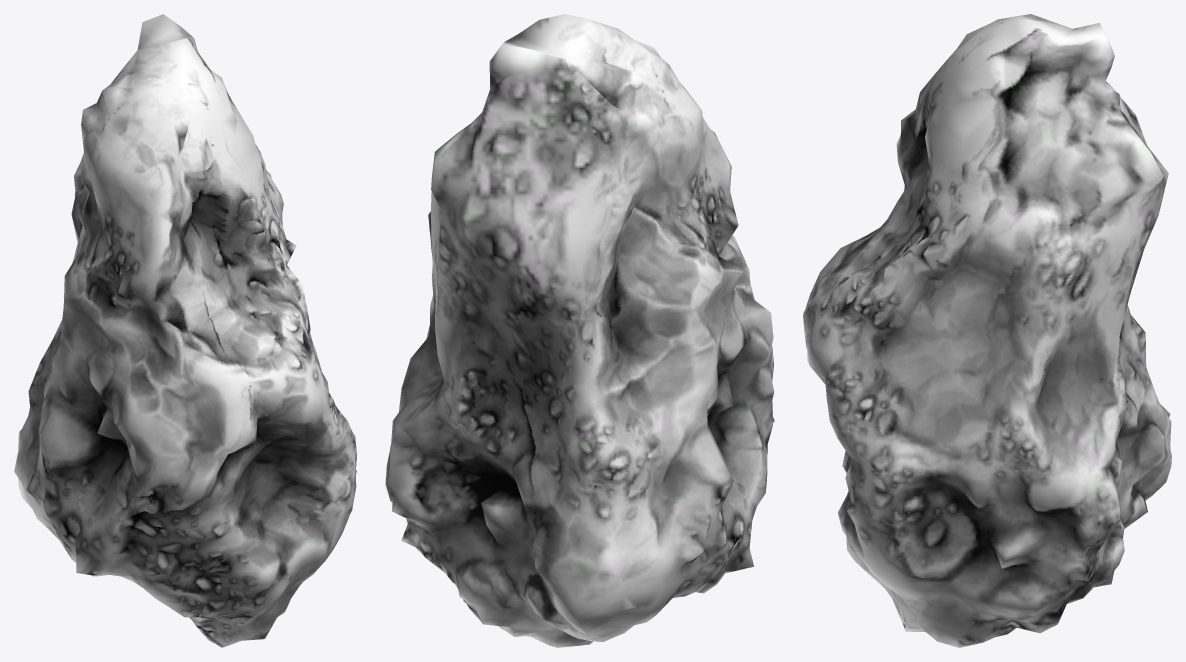
File: asteroid 2.fbx
3 views of the same model, side by side, from view 1: azimuth 30°, elevation 25°; view 2: azimuth 150°, elevation 25°; view 3: azimuth 270°, elevation 25° (orthographic). The views are drawn at different scales.
Parts seen in each view (by area): view 1: LP_UV_0; view 2: LP_UV_0; view 3: LP_UV_0.
Boxes of the visible parts, left/top/right/bottom form: LP_UV_0: left=14, top=14, right=356, bottom=647; LP_UV_0: left=385, top=14, right=774, bottom=647; LP_UV_0: left=803, top=14, right=1171, bottom=647.
Size of the model in its own units: 1.59 by 3.14 by 1.71.
Materials: 1 (1 with a texture image).
